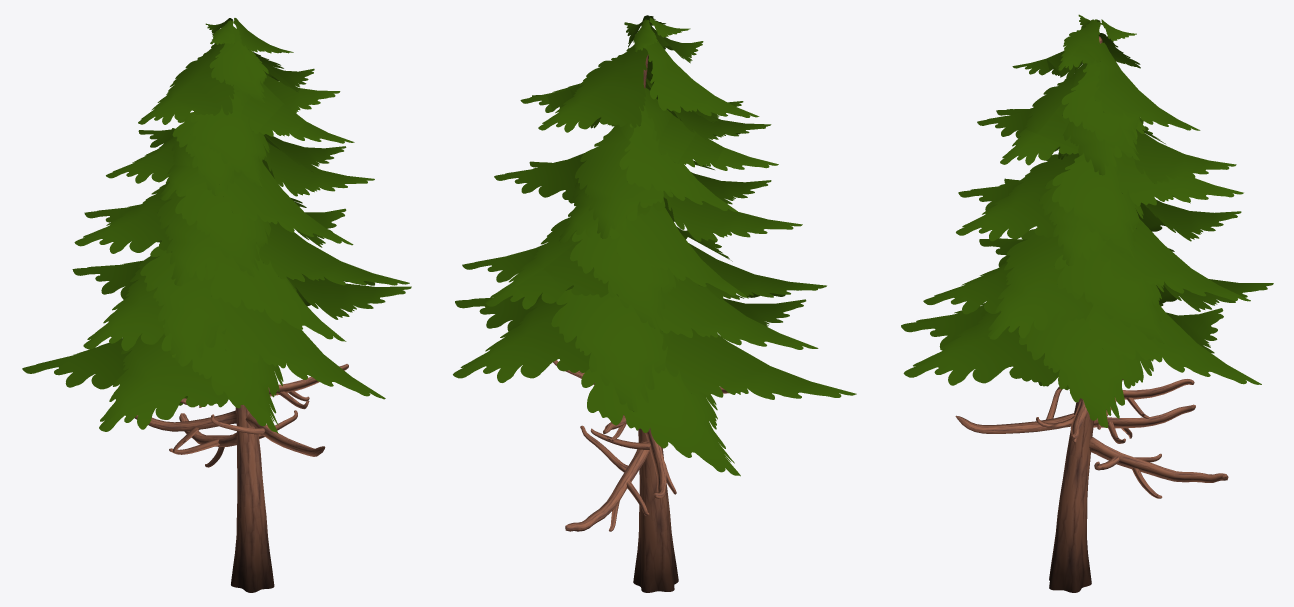
File: Pine_1.gltf
The picture shows the model from 3 angles, left to right: view 1: azimuth 30°, elevation 25°; view 2: azimuth 150°, elevation 25°; view 3: azimuth 270°, elevation 25°; orthographic projection. The views are drawn at different scales.
Visible parts, largest first — view 1: Pine_1; view 2: Pine_1; view 3: Pine_1.
Boxes of the visible parts, x1,y1,x2,y2 form: Pine_1: [22, 18, 411, 592]; Pine_1: [453, 15, 856, 592]; Pine_1: [901, 14, 1273, 592].
Bounding box in the file's own units: 4.94 × 7.32 × 4.54.
2 materials, 2 textured.
